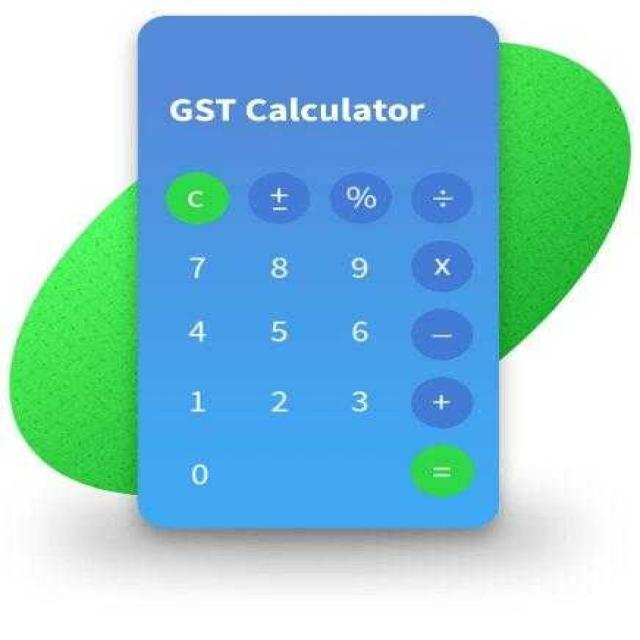Calculator: (12, 16, 628, 529)
